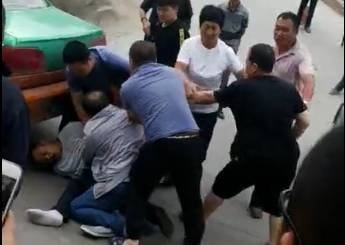falling: (27, 107, 140, 239)
